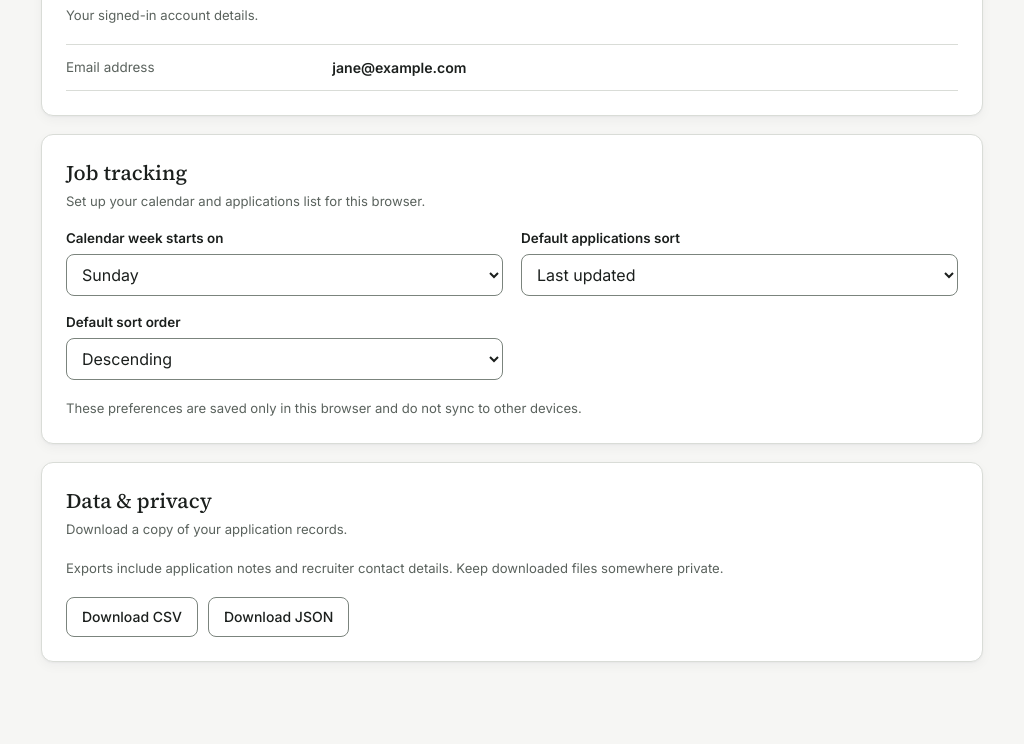
Test: SettingsPage › shows normal error feedback when export fails
(page scrolled)
Click the button "Download JSON" at (279, 617), box [208,597,349,637]
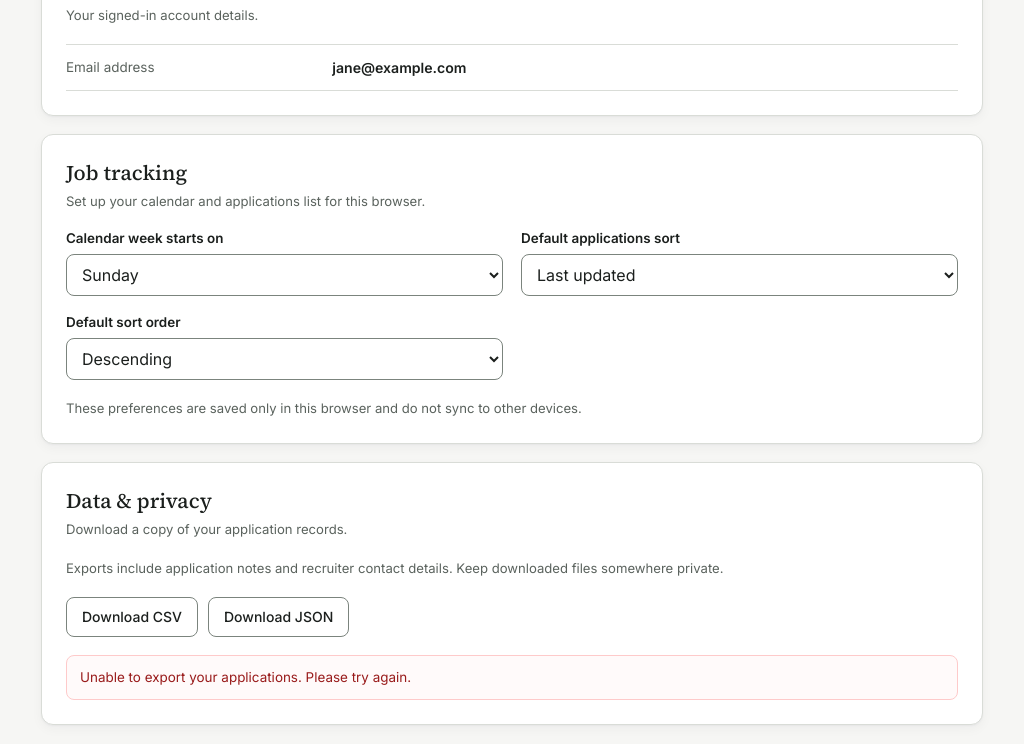
Expected: the message reads "Unable to export your applications. Please try again.", [80,669,411,685]
